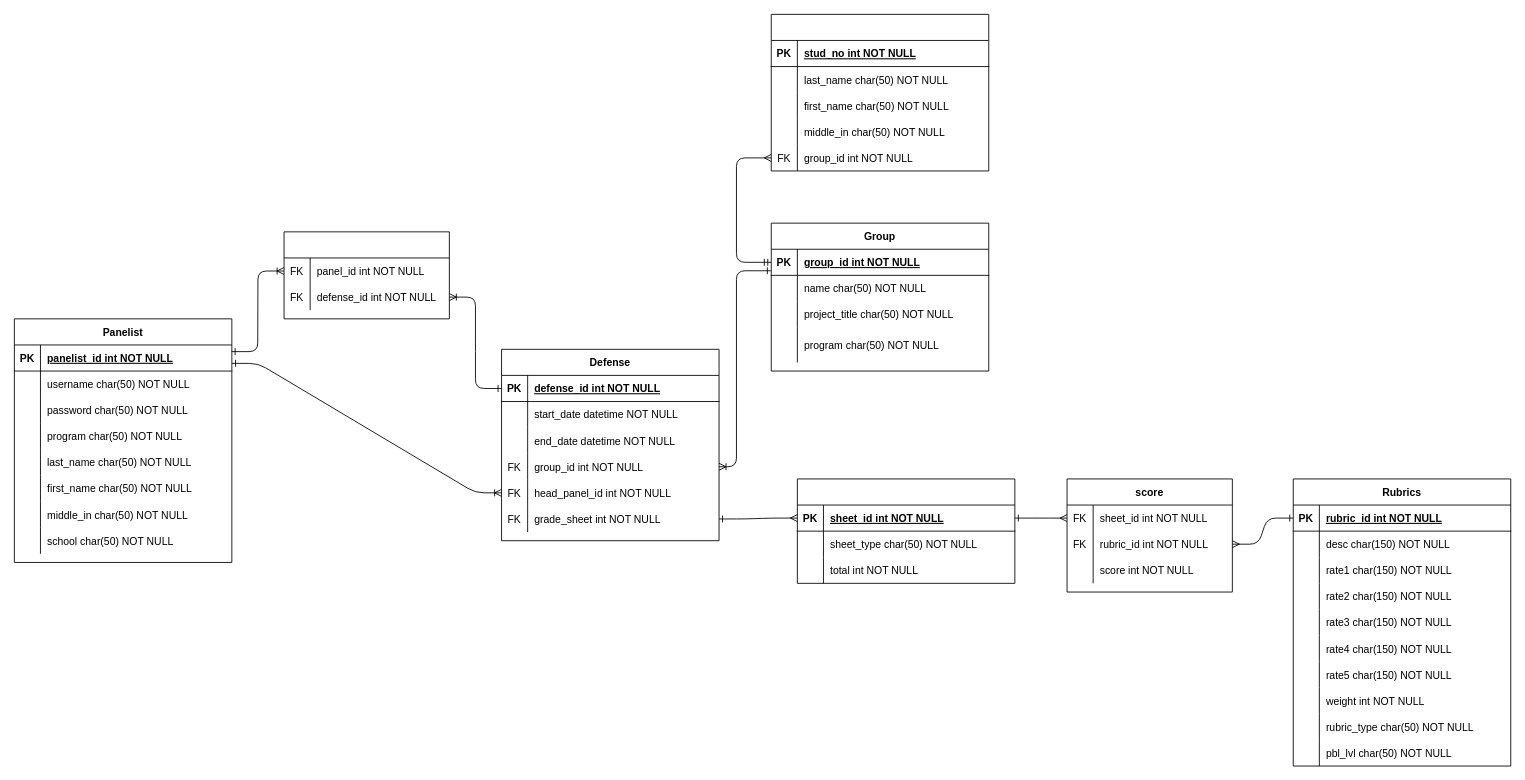
This 1525x780 diagram has some shape labels left out. The box of each missing label's shape, as (x1, y1, x2, y2) in pixels:
defense_panel: (283, 231, 449, 319)
Grade Sheets: (796, 478, 1015, 583)
Students: (770, 13, 989, 171)
